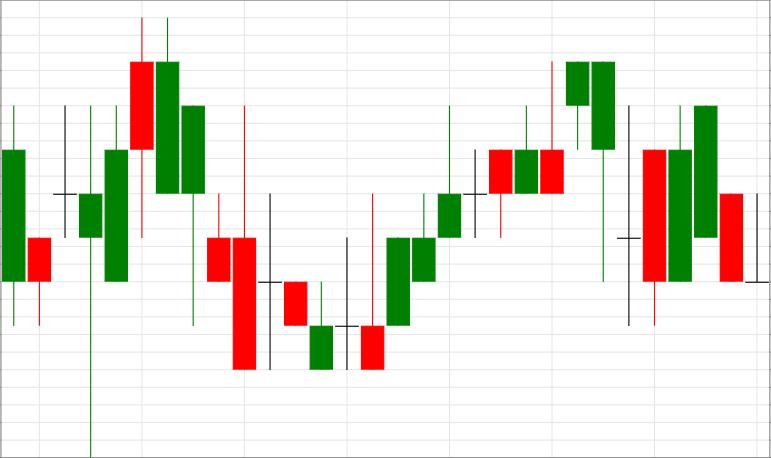inverse_hammer_rise: (156, 18, 384, 370)
shooting_star_fall: (361, 106, 461, 369)
